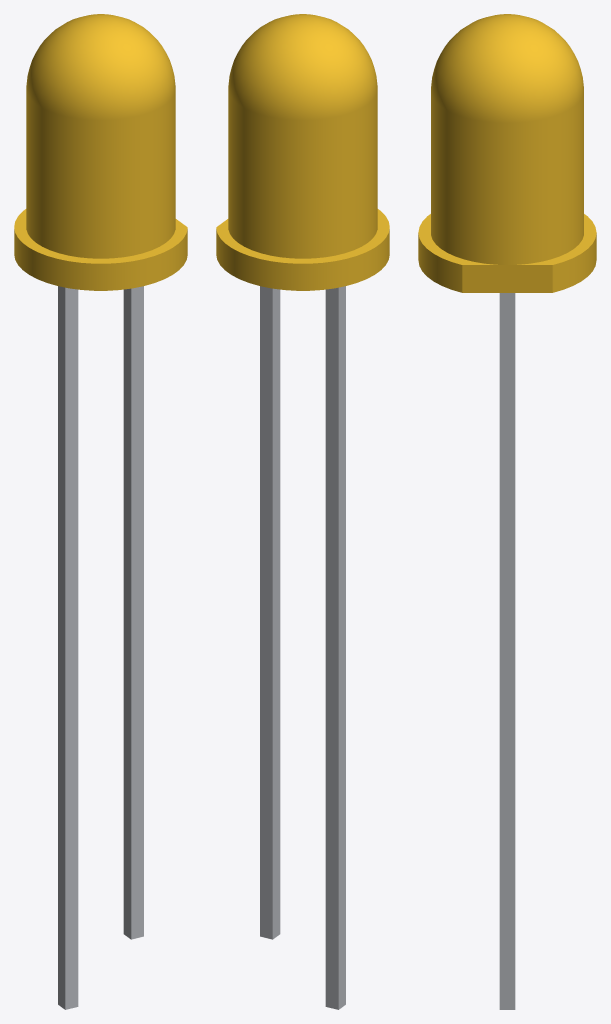
The model's file is led-5mm-yellow.glb.
3 views of the same model, side by side, from view 1: azimuth 30°, elevation 25°; view 2: azimuth 150°, elevation 25°; view 3: azimuth 270°, elevation 25° (orthographic). The views are drawn at different scales.
Parts seen in each view (by area): view 1: body, lead-1, lead-2; view 2: body, lead-1, lead-2; view 3: body, lead-2.
Boxes of the visible parts, x1,y1,x2,y2 form: body: (14,14,187,290); lead-1: (58,286,78,1009); lead-2: (123,286,143,939); body: (216,14,389,290); lead-1: (325,286,345,1009); lead-2: (260,286,280,939); body: (418,14,596,292); lead-2: (499,293,515,987).
Bounding box in the file's own units: 0.00539 × 0.036 × 0.0058.
